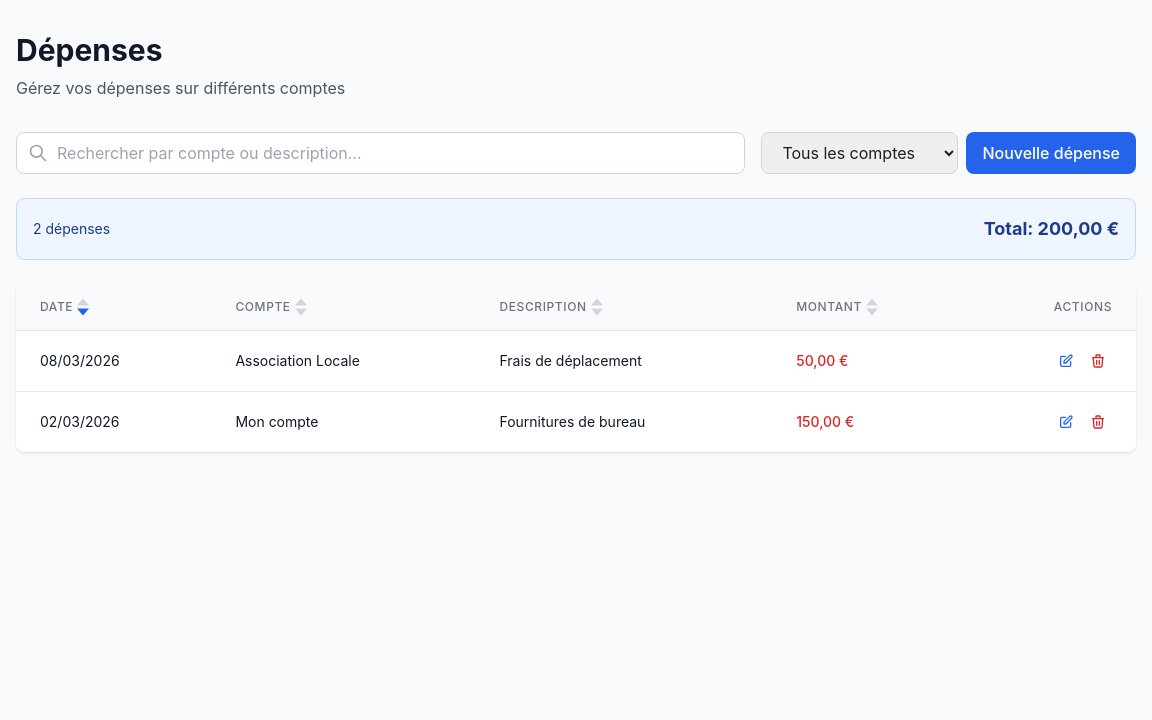
Depenses page › opens the add modal when clicking the add button
Note: Click the action bar "Nouvelle depense" button
What coordinates should you click on to do the following:
click the button "Nouvelle dépense"
I would click on:
 (1051, 153)
Its box is [966,132,1136,174].
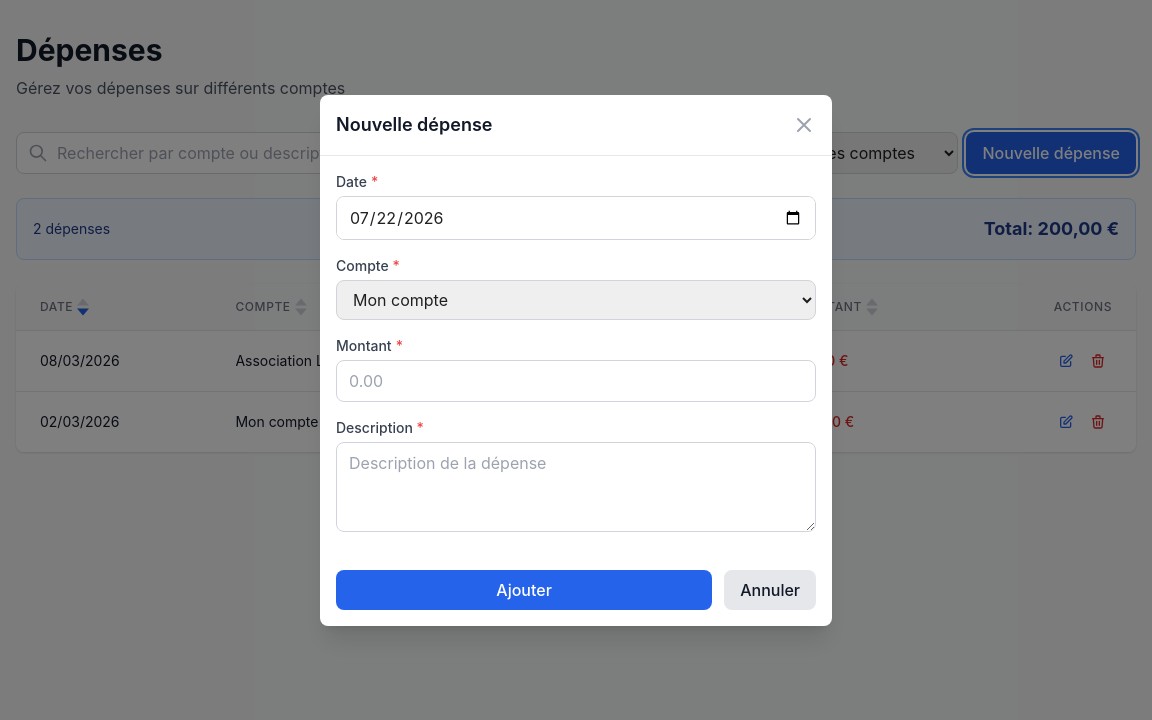
Expected: the heading "Nouvelle dépense" is shown, [336,110,492,138]
Expected: the button named "Close modal" is shown, [792,112,816,136]
